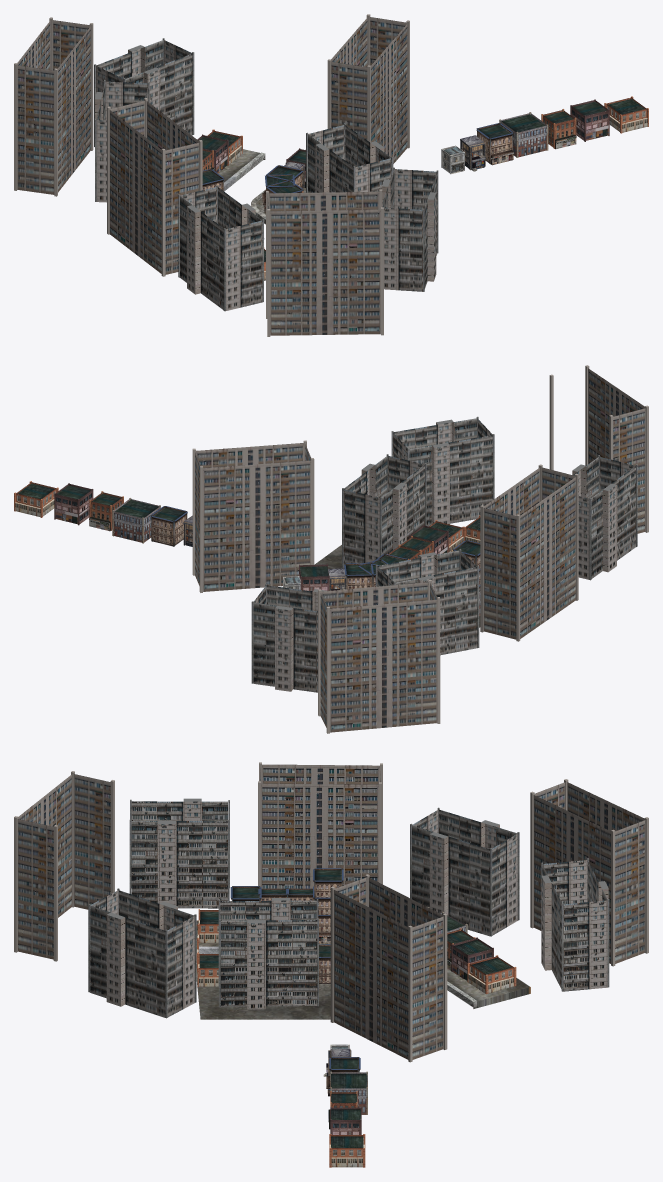
File: city_street (2).glb
The picture shows the model from 3 angles, top to bottom: view 1: azimuth 30°, elevation 25°; view 2: azimuth 150°, elevation 25°; view 3: azimuth 270°, elevation 25°; orthographic projection. The views are drawn at different scales.
Parts seen in each view (by area): view 1: Plane.030, Plane.027, Plane.029, Plane.028, Cube.016, Cube.019, Cube.013, Cube.014, Cube.012, Cube.002, Cube.001, Plane.001 (+8 smaller); view 2: Plane.029, Plane.028, Plane.027, Cube.019, Cube.014, Cube.013, Cube.016, Plane.030, Cube.012, Cube.002, Cube.001, Plane.001 (+5 smaller); view 3: Plane.028, Plane.027, Plane.030, Plane.029, Cube.019, Cube.012, Cube.014, Cube.016, Cube.013, Plane.007, Cube.006, Plane.006 (+8 smaller).
Part boxes in pixels (<box>): Plane.030: <box>266,189,383,336</box>; Plane.027: <box>107,98,202,276</box>; Plane.029: <box>14,17,93,196</box>; Plane.028: <box>327,14,409,163</box>; Cube.016: <box>178,185,263,311</box>; Cube.019: <box>382,167,438,291</box>; Cube.013: <box>94,38,194,146</box>; Cube.014: <box>306,123,393,192</box>; Cube.012: <box>95,80,149,202</box>; Cube.002: <box>499,112,548,157</box>; Cube.001: <box>570,99,609,141</box>; Plane.001: <box>476,123,514,165</box>; Plane.029: <box>318,579,440,733</box>; Plane.028: <box>192,440,314,592</box>; Plane.027: <box>480,464,578,641</box>; Cube.019: <box>391,416,494,526</box>; Cube.014: <box>342,454,426,568</box>; Cube.013: <box>251,584,327,692</box>; Cube.016: <box>572,455,637,580</box>; Plane.030: <box>549,365,648,533</box>; Cube.012: <box>375,549,479,655</box>; Cube.002: <box>112,498,160,543</box>; Cube.001: <box>54,483,93,525</box>; Plane.001: <box>151,506,187,546</box>; Plane.028: <box>330,874,447,1062</box>; Plane.027: <box>258,762,382,888</box>; Plane.030: <box>14,771,114,961</box>; Plane.029: <box>530,779,648,966</box>; Cube.019: <box>88,888,196,1018</box>; Cube.012: <box>410,807,519,936</box>; Cube.014: <box>218,898,318,1009</box>; Cube.016: <box>129,798,229,908</box>; Cube.013: <box>541,858,609,991</box>; Plane.007: <box>196,972,330,1019</box>; Cube.006: <box>467,955,516,994</box>; Plane.006: <box>196,920,530,1008</box>.
Size of the model in its own units: 53.72 by 14.18 by 52.9.
Materials: 10 (10 with a texture image).
